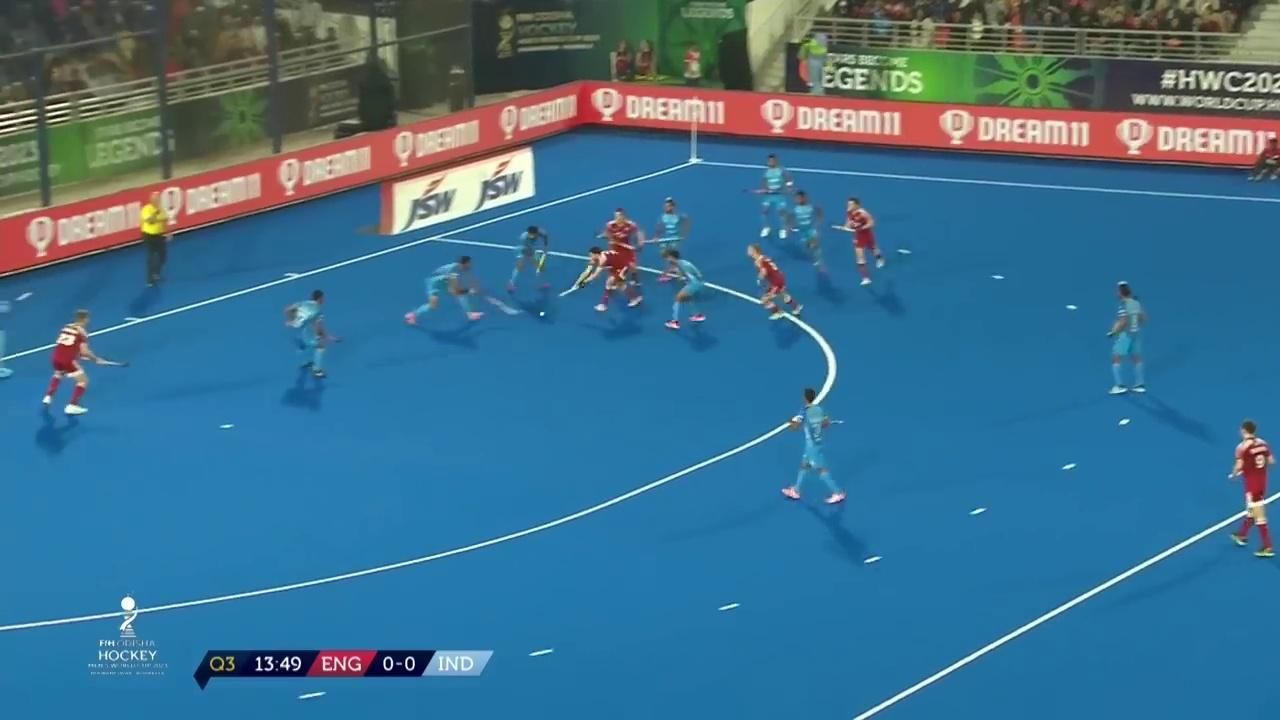ball: (537, 305, 553, 321)
